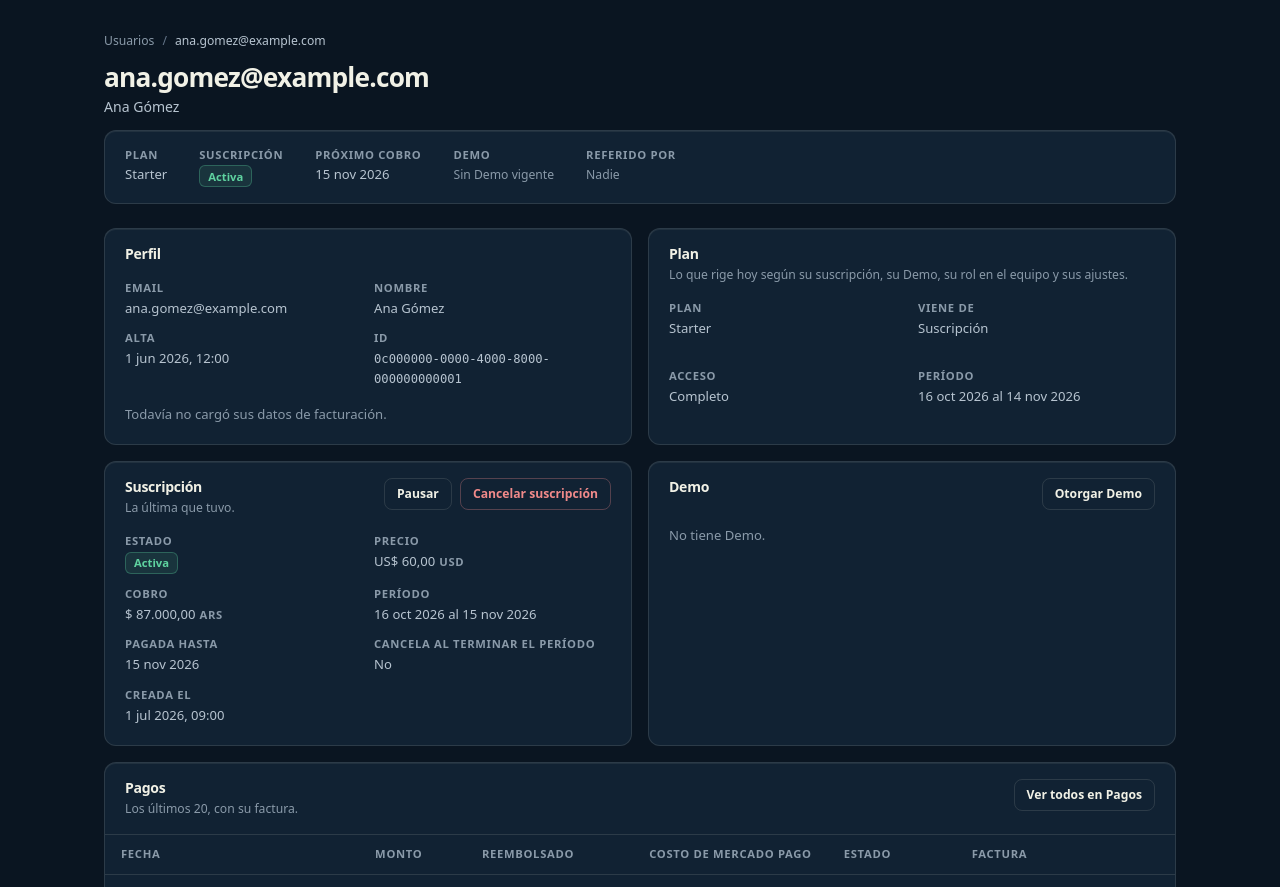
Test: CustomerDetailScreen › says the cancellation stays asked for when Mercado Pago does not confirm it
The image size is (1280, 887).
Click the button "Cancelar suscripción": (535, 494) x1=460 y1=478 x2=611 y2=510
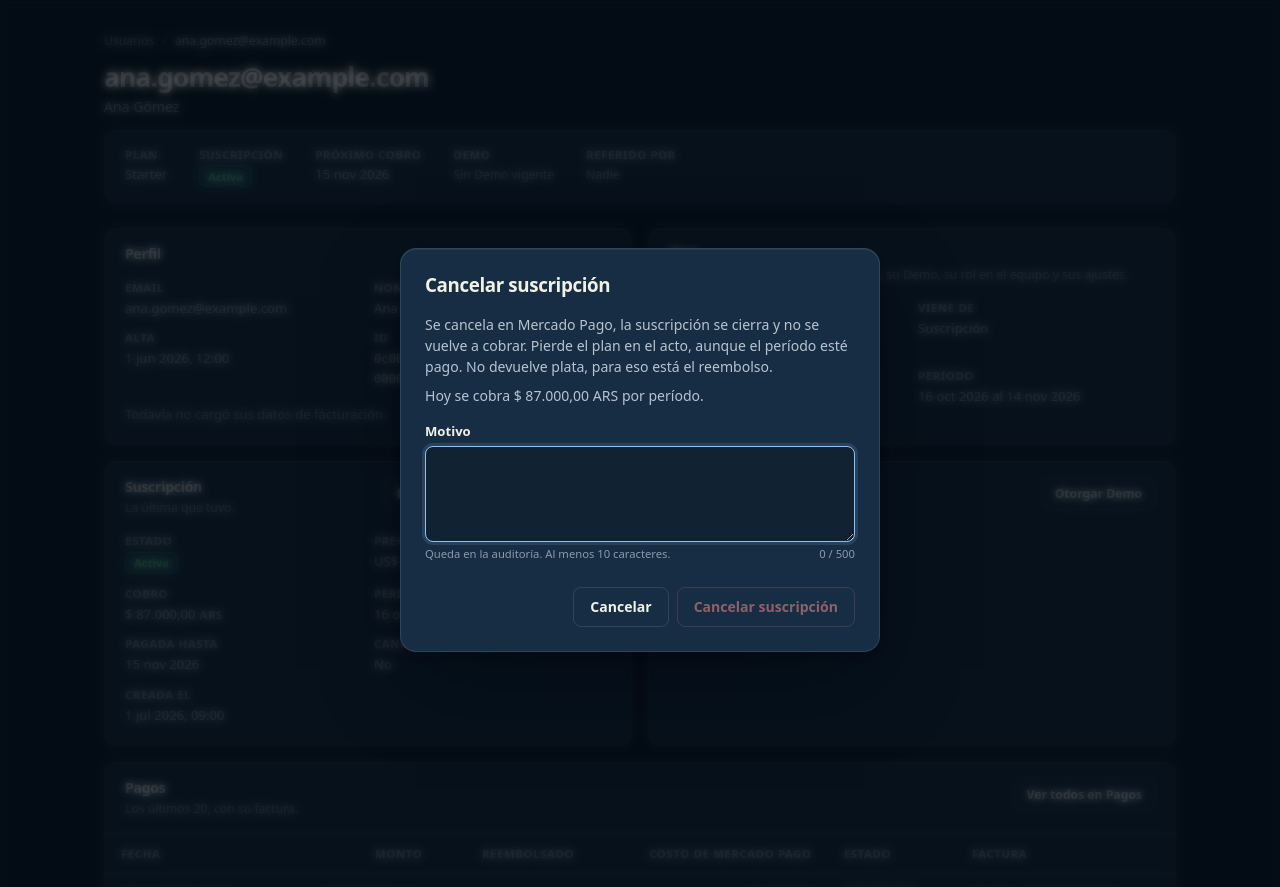
In the text box labelled "Motivo": (640, 494) x1=425 y1=446 x2=855 y2=542, type "Pidió la baja por teléfono"
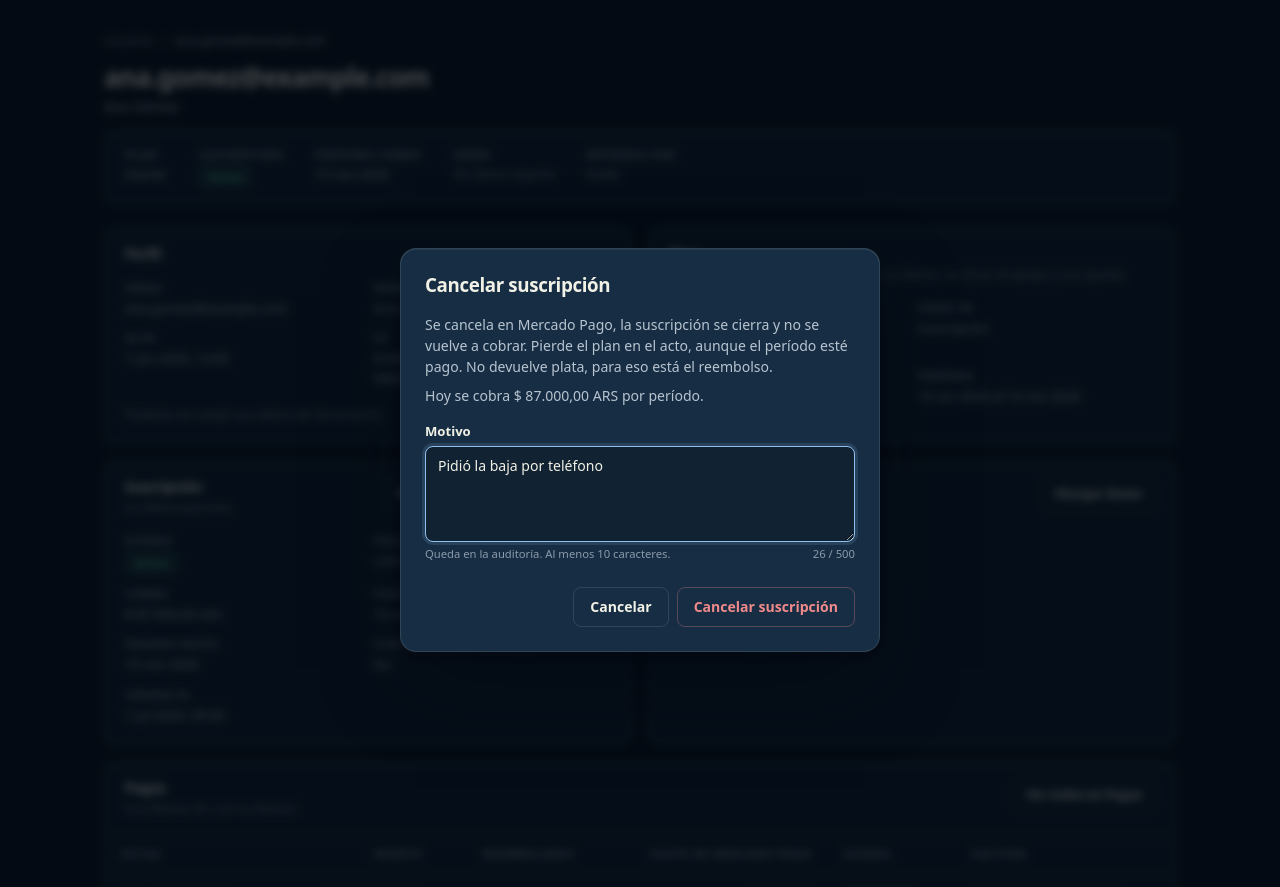
Click the button "Cancelar suscripción": (766, 607) x1=677 y1=587 x2=855 y2=627
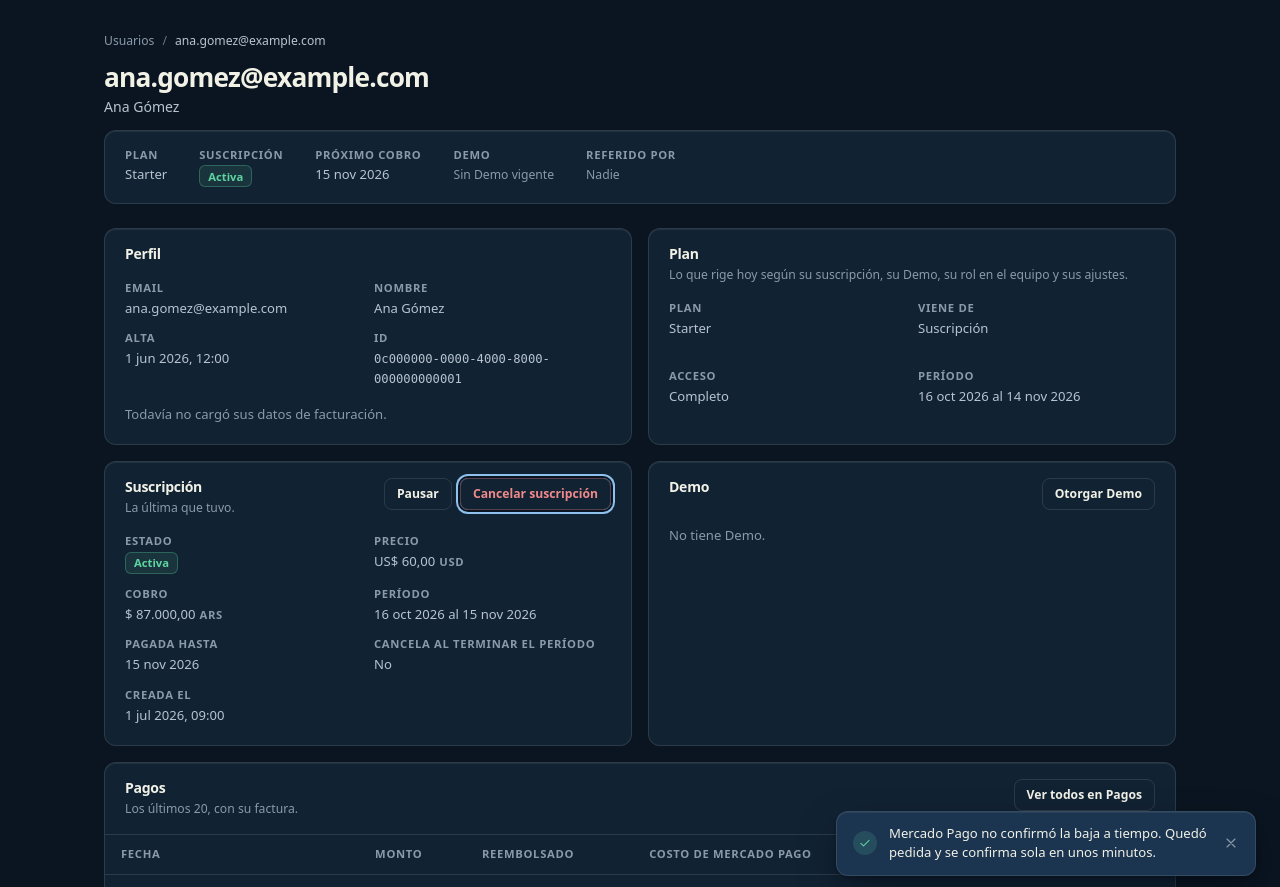
Expected: the text "Mercado Pago no confirmó la baja a tiempo. Quedó pedida y se confirma sola en unos minutos." is shown, x1=889 y1=824 x2=1207 y2=861
